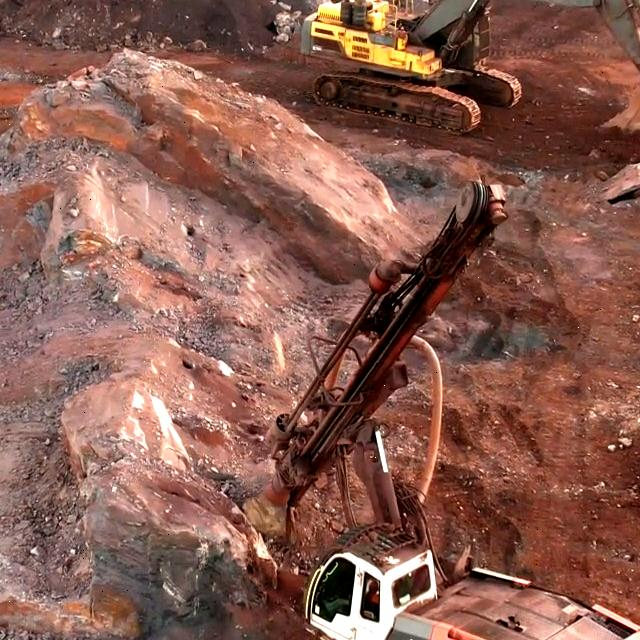Blast rig: (316, 523, 640, 640)
Excavator: (304, 0, 515, 113), (593, 0, 640, 129)
